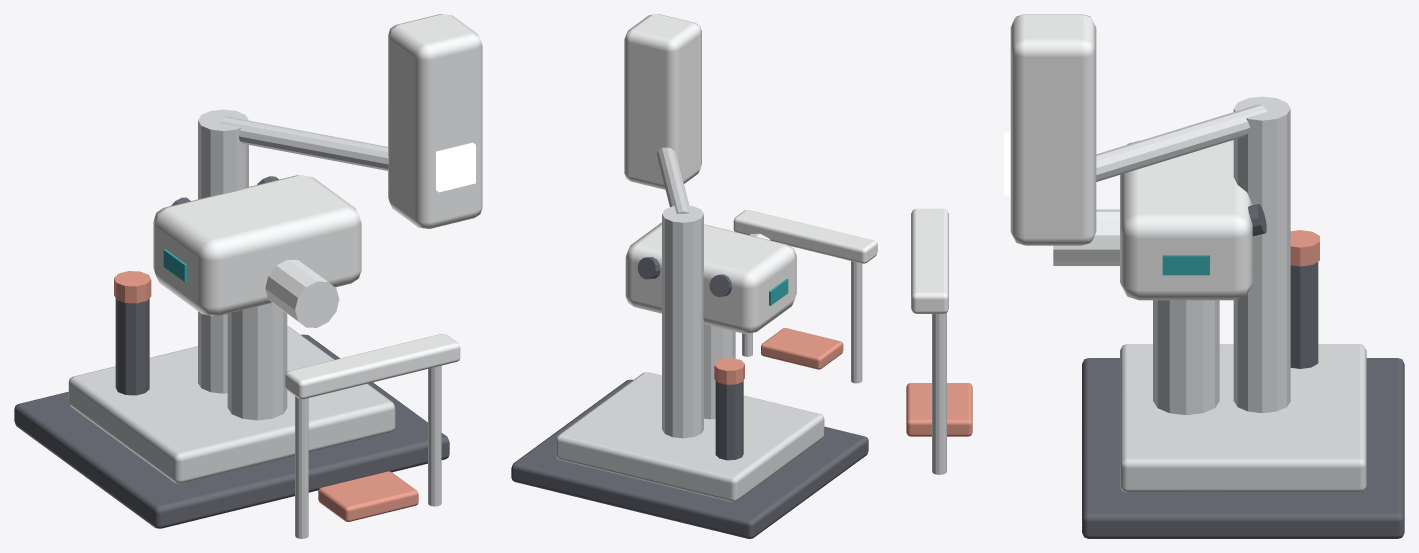
3 renders of one model, left to right at view 1: azimuth 30°, elevation 25°; view 2: azimuth 150°, elevation 25°; view 3: azimuth 270°, elevation 25°, orthographic. The views are drawn at different scales.
Visible parts, largest first — view 1: slit-lamp; view 2: slit-lamp; view 3: slit-lamp.
Part boxes in pixels (left/top/right/bottom): slit-lamp: left=14, top=14, right=482, bottom=538; slit-lamp: left=511, top=14, right=877, bottom=538; slit-lamp: left=906, top=14, right=1404, bottom=538.
Size of the model in its own units: 0.405 by 0.58 by 0.525.
